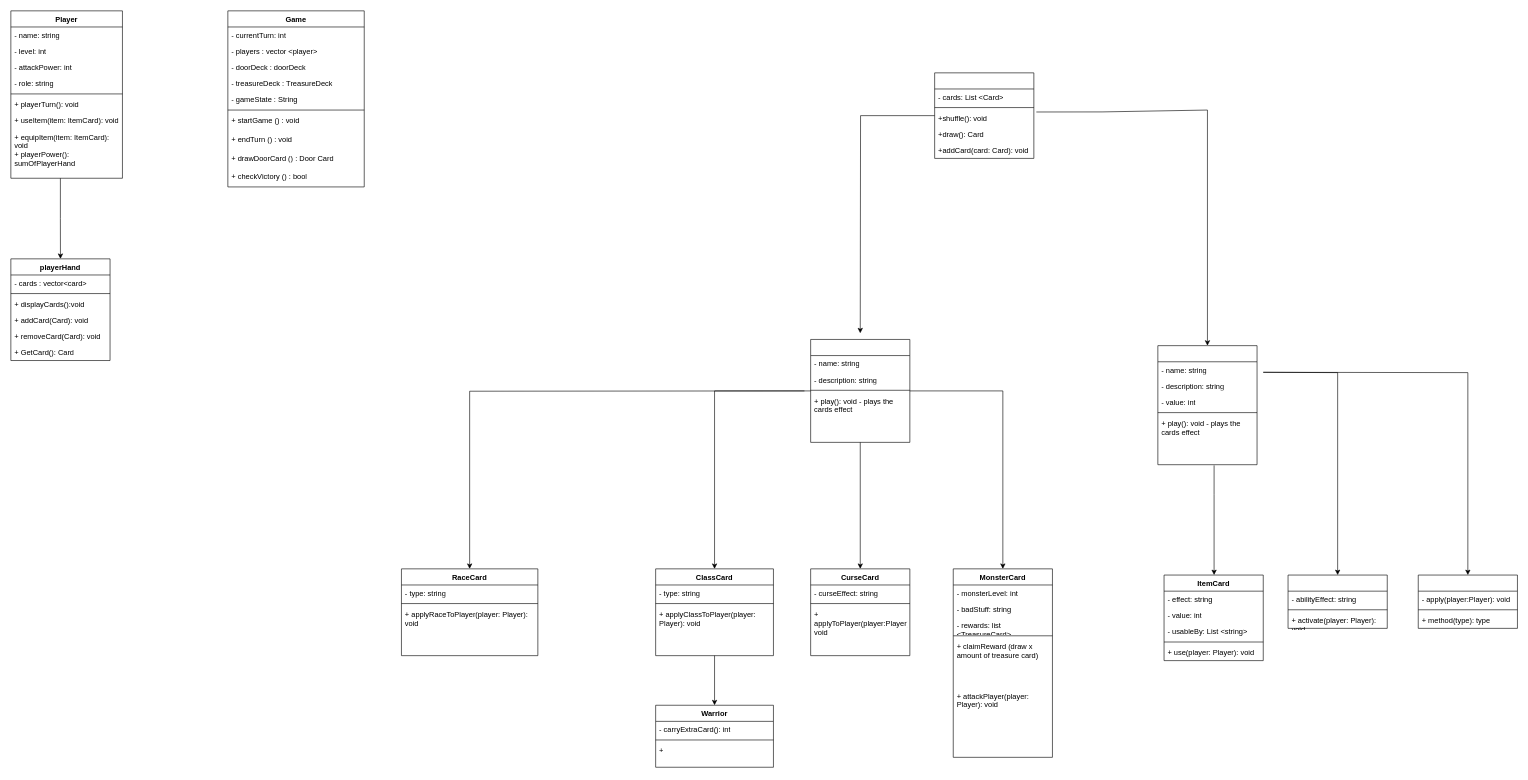
The diagram is 1528 pixels wide and 780 high, and some of its shapes have lost their labels. Here are the shapes that lost their labels. From the top down, the box of each, then its label:
(934, 72, 1034, 158): Deck
(810, 339, 910, 442): DoorCard
(1157, 345, 1257, 465): TreasureCard
(1287, 574, 1387, 628): AbilityCard
(1418, 574, 1517, 628): LevelUpCard
